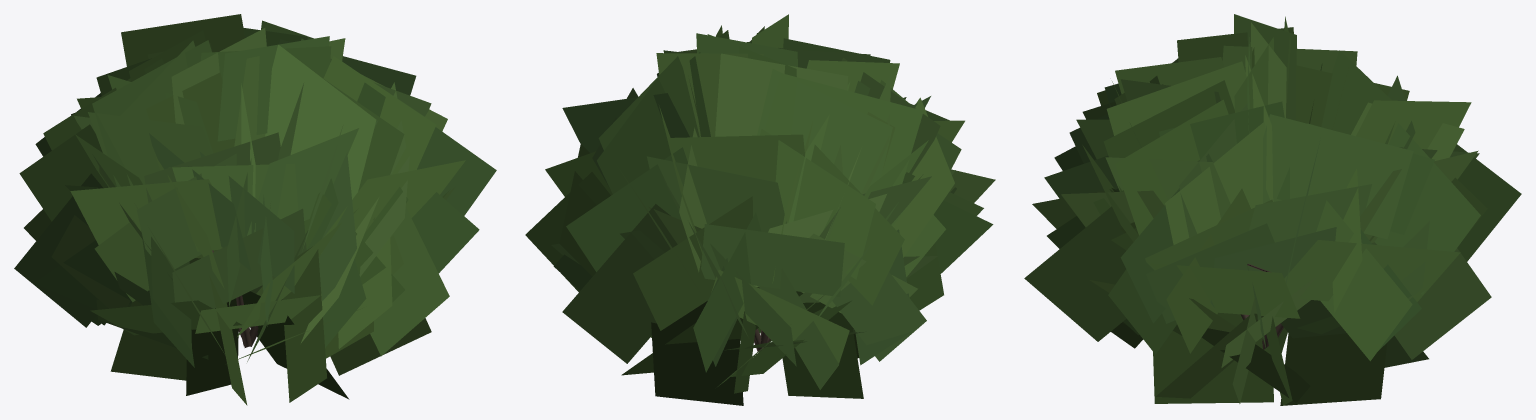
The model's file is shrub.laurel.green.glb.
3 renders of one model, left to right at view 1: azimuth 30°, elevation 25°; view 2: azimuth 150°, elevation 25°; view 3: azimuth 270°, elevation 25°, orthographic.
Parts seen in each view (by area): view 1: shrub_laurel_green; view 2: shrub_laurel_green; view 3: shrub_laurel_green.
Boxes of the visible parts, box(x1,y1,x2,y2) form: shrub_laurel_green: box(14, 14, 496, 405); shrub_laurel_green: box(525, 14, 995, 405); shrub_laurel_green: box(1024, 14, 1521, 405).
Size of what is drawn, in the model's own units: 2.77 by 2.32 by 3.09.
